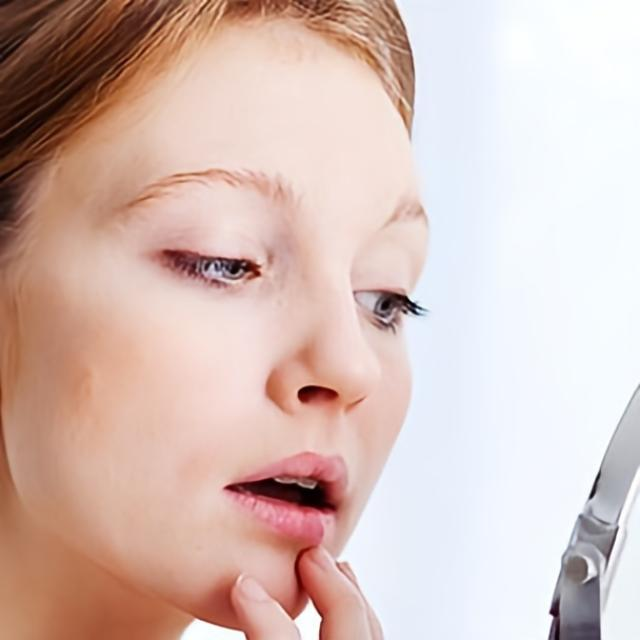surprise: (2, 1, 438, 633)
